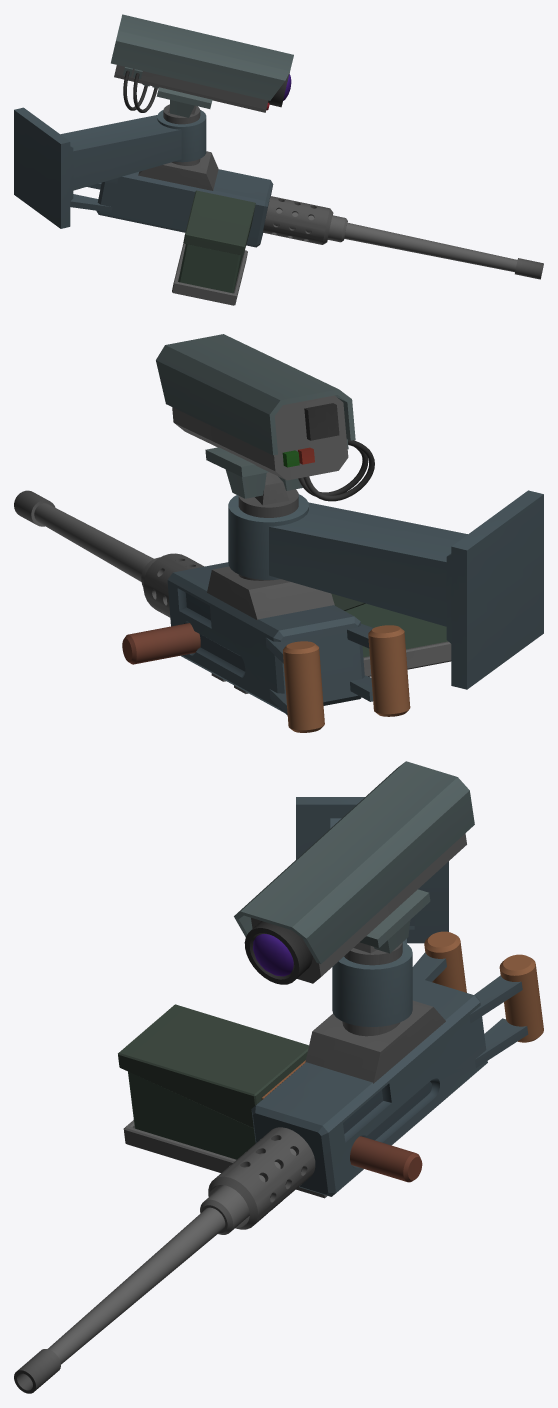
The model's file is SM_CCTV.fbx.
3 renders of one model, top to bottom at view 1: azimuth 30°, elevation 25°; view 2: azimuth 150°, elevation 25°; view 3: azimuth 270°, elevation 25°, orthographic. The views are drawn at different scales.
Parts seen in each view (by area): view 1: pCube48, pCylinder75, pCube49; view 2: pCube48, pCylinder75, pCube49; view 3: pCube48, pCube49, pCylinder75.
Part boxes in pixels (x1,y1,x2,y2): pCube48: (70, 151, 543, 305); pCylinder75: (14, 104, 206, 228); pCube49: (111, 14, 293, 117); pCube48: (14, 490, 451, 732); pCylinder75: (228, 472, 543, 689); pCube49: (156, 334, 374, 501); pCube48: (14, 931, 543, 1393); pCube49: (234, 761, 474, 984); pCylinder75: (296, 797, 448, 1036).
Size of the model in its own units: 255 by 144 by 178.
1 material, 1 textured.
